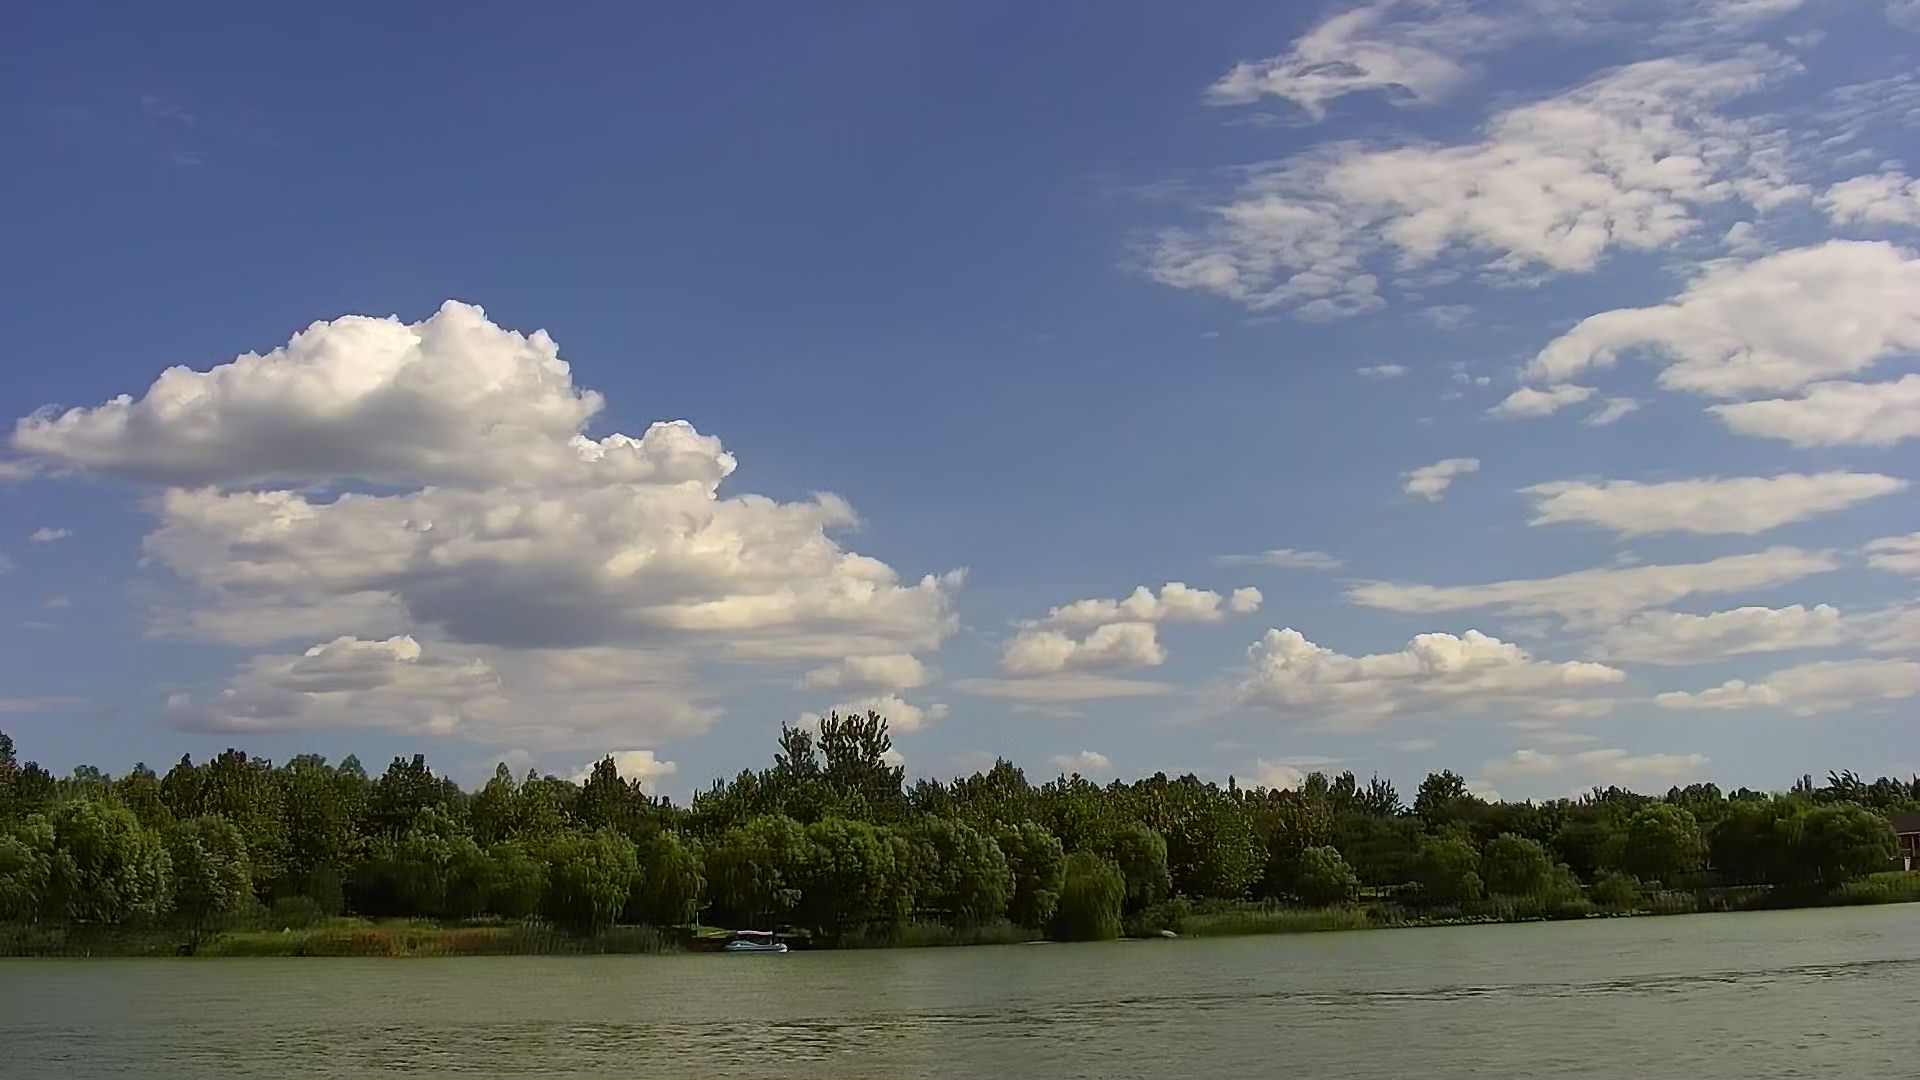boat: (716, 926, 793, 956)
